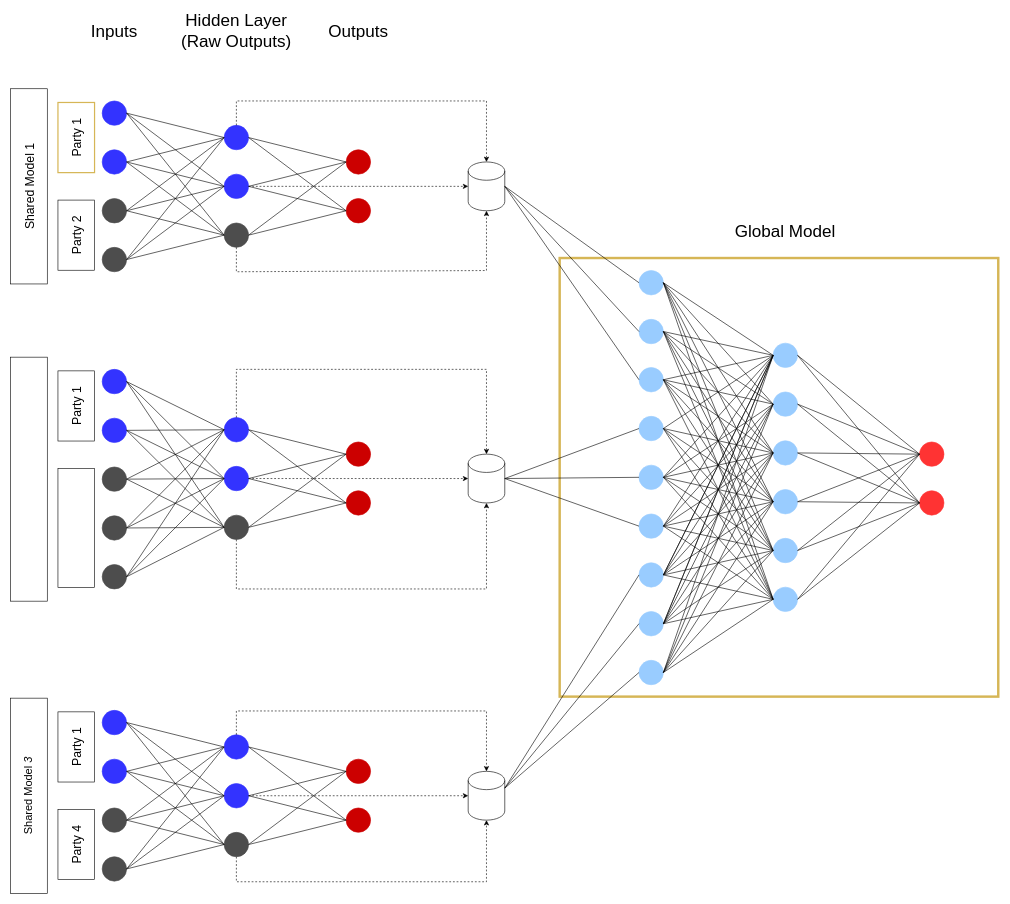
This 1010x904 diagram has some shape labels left out. Each missing label, with the box of its shape:
Party 3: (57, 468, 95, 587)
Shared Model 2: (10, 357, 47, 601)
